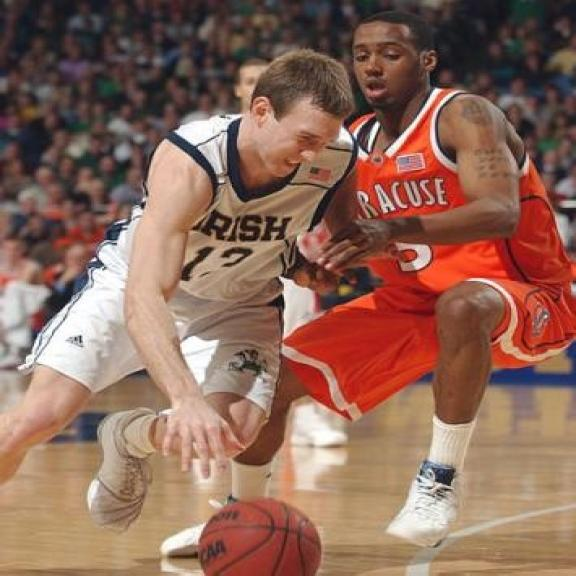face: (246, 82, 343, 182), (349, 25, 440, 106)
